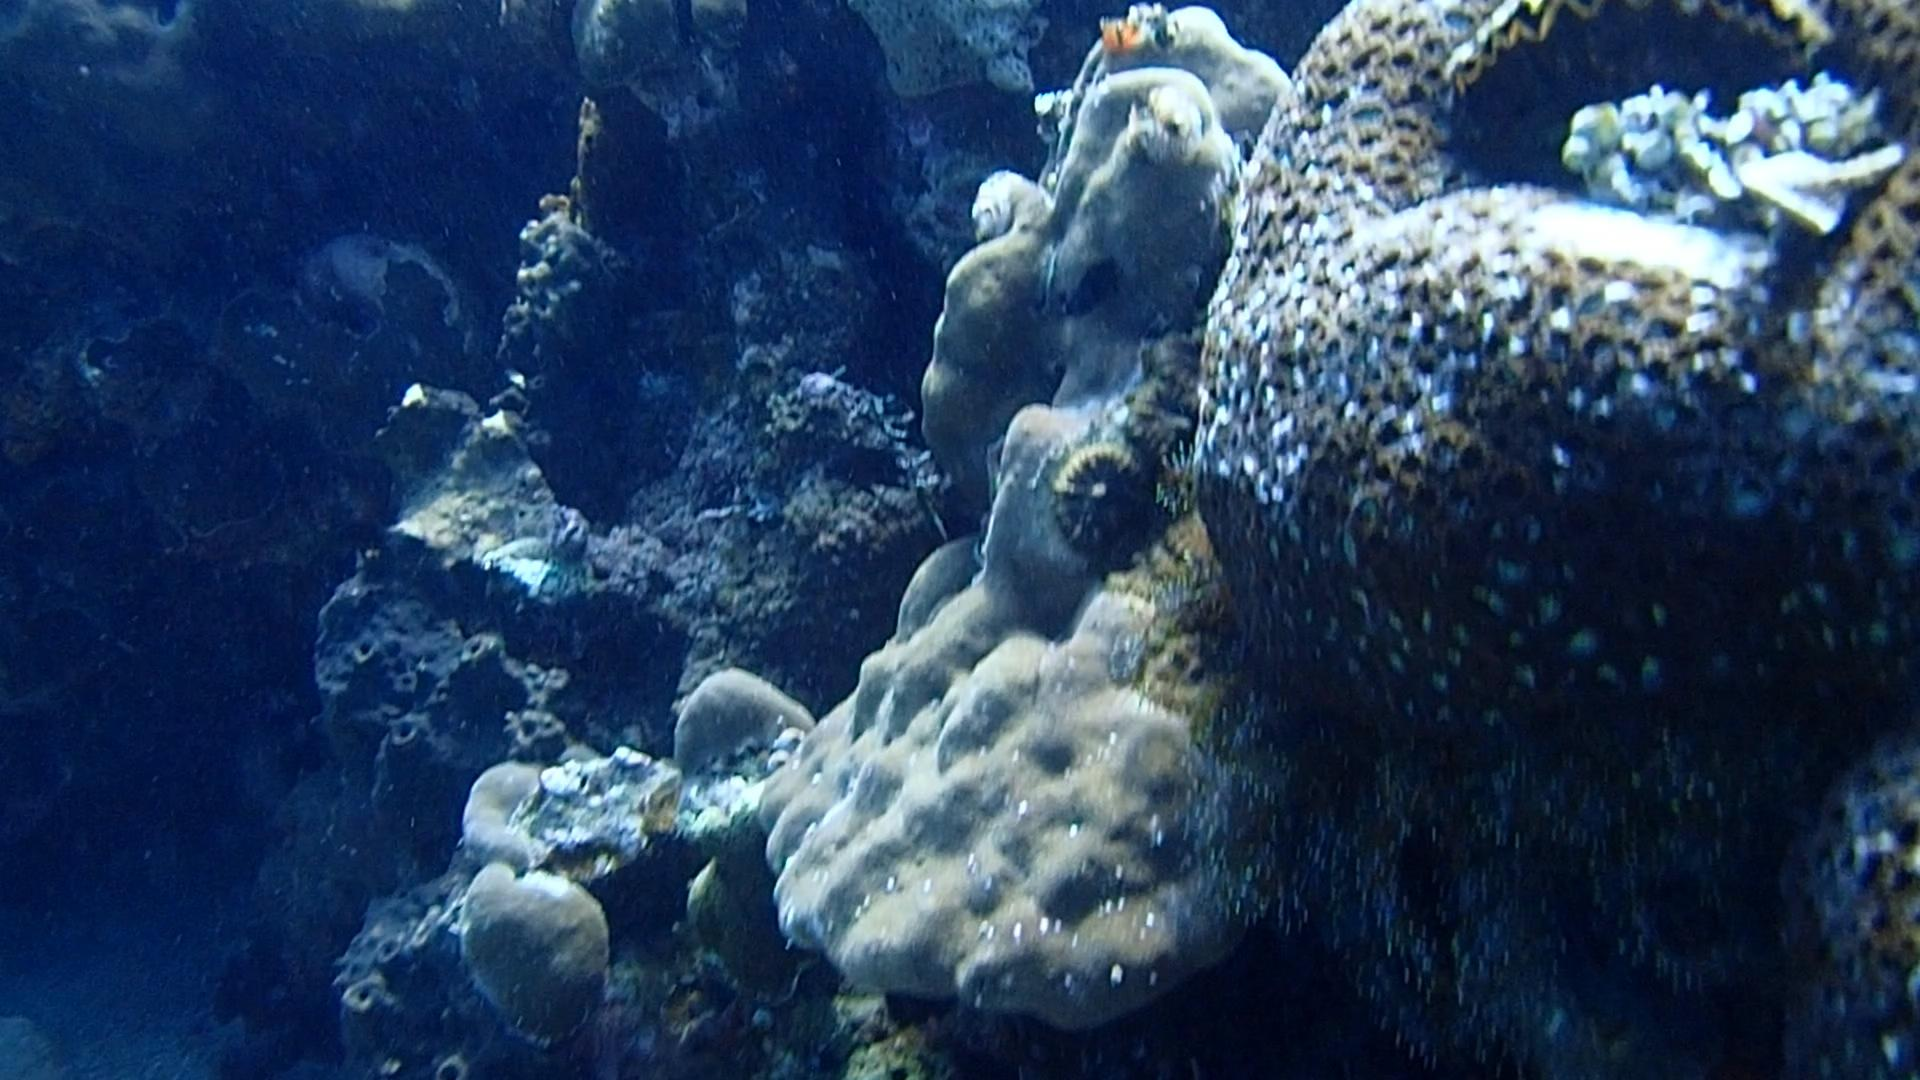Dark Fish: (811, 430, 916, 505), (1048, 241, 1130, 323)
